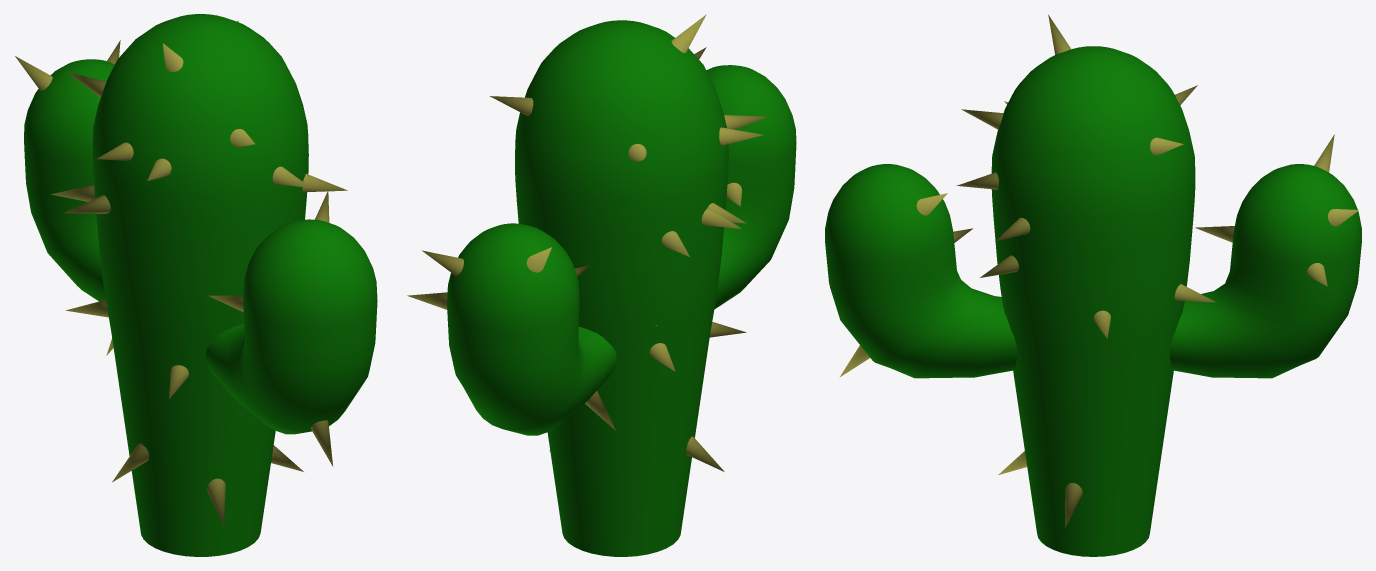
Rendered from cactus.fbx.
The picture shows the model from 3 angles, left to right: view 1: azimuth 30°, elevation 25°; view 2: azimuth 150°, elevation 25°; view 3: azimuth 270°, elevation 25°; orthographic projection. The views are drawn at different scales.
Visible parts, largest first — view 1: Cactus_1; view 2: Cactus_1; view 3: Cactus_1.
Part boxes in pixels (x1,y1,x2,y2): Cactus_1: (15, 14, 377, 556); Cactus_1: (407, 14, 796, 556); Cactus_1: (825, 14, 1361, 556).
Size of the model in its own units: 292 by 566 by 570.
